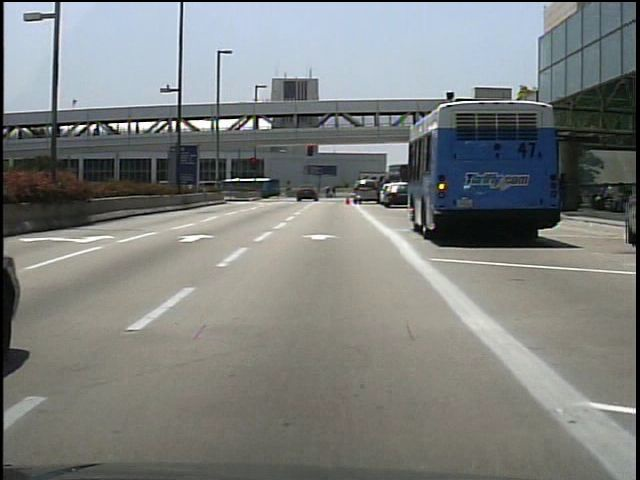person: (592, 182, 614, 210), (324, 186, 336, 201), (330, 185, 339, 201), (561, 175, 562, 210)
